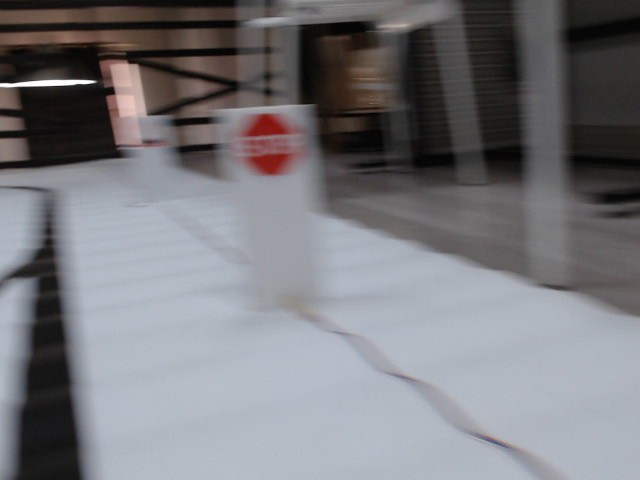Stop: (236, 112, 303, 179)
